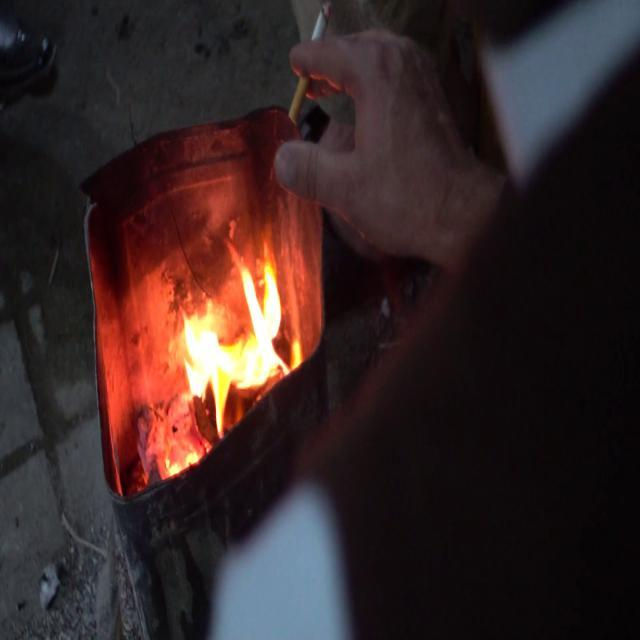Fire: (169, 241, 293, 427)
